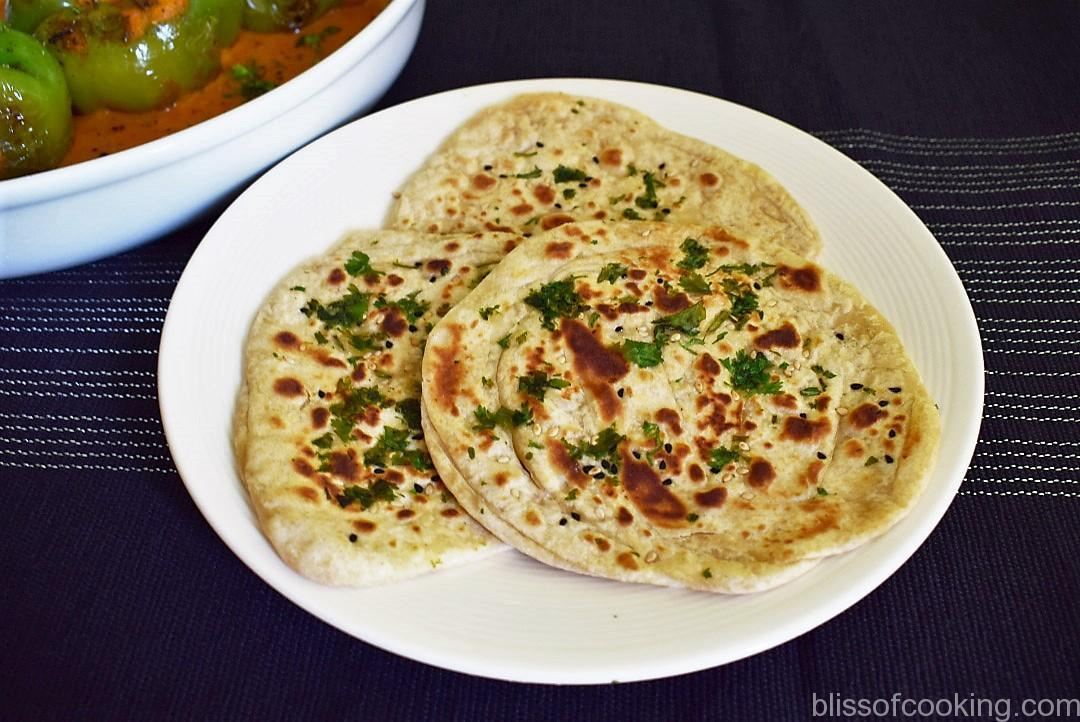paratha: (230, 87, 947, 618)
